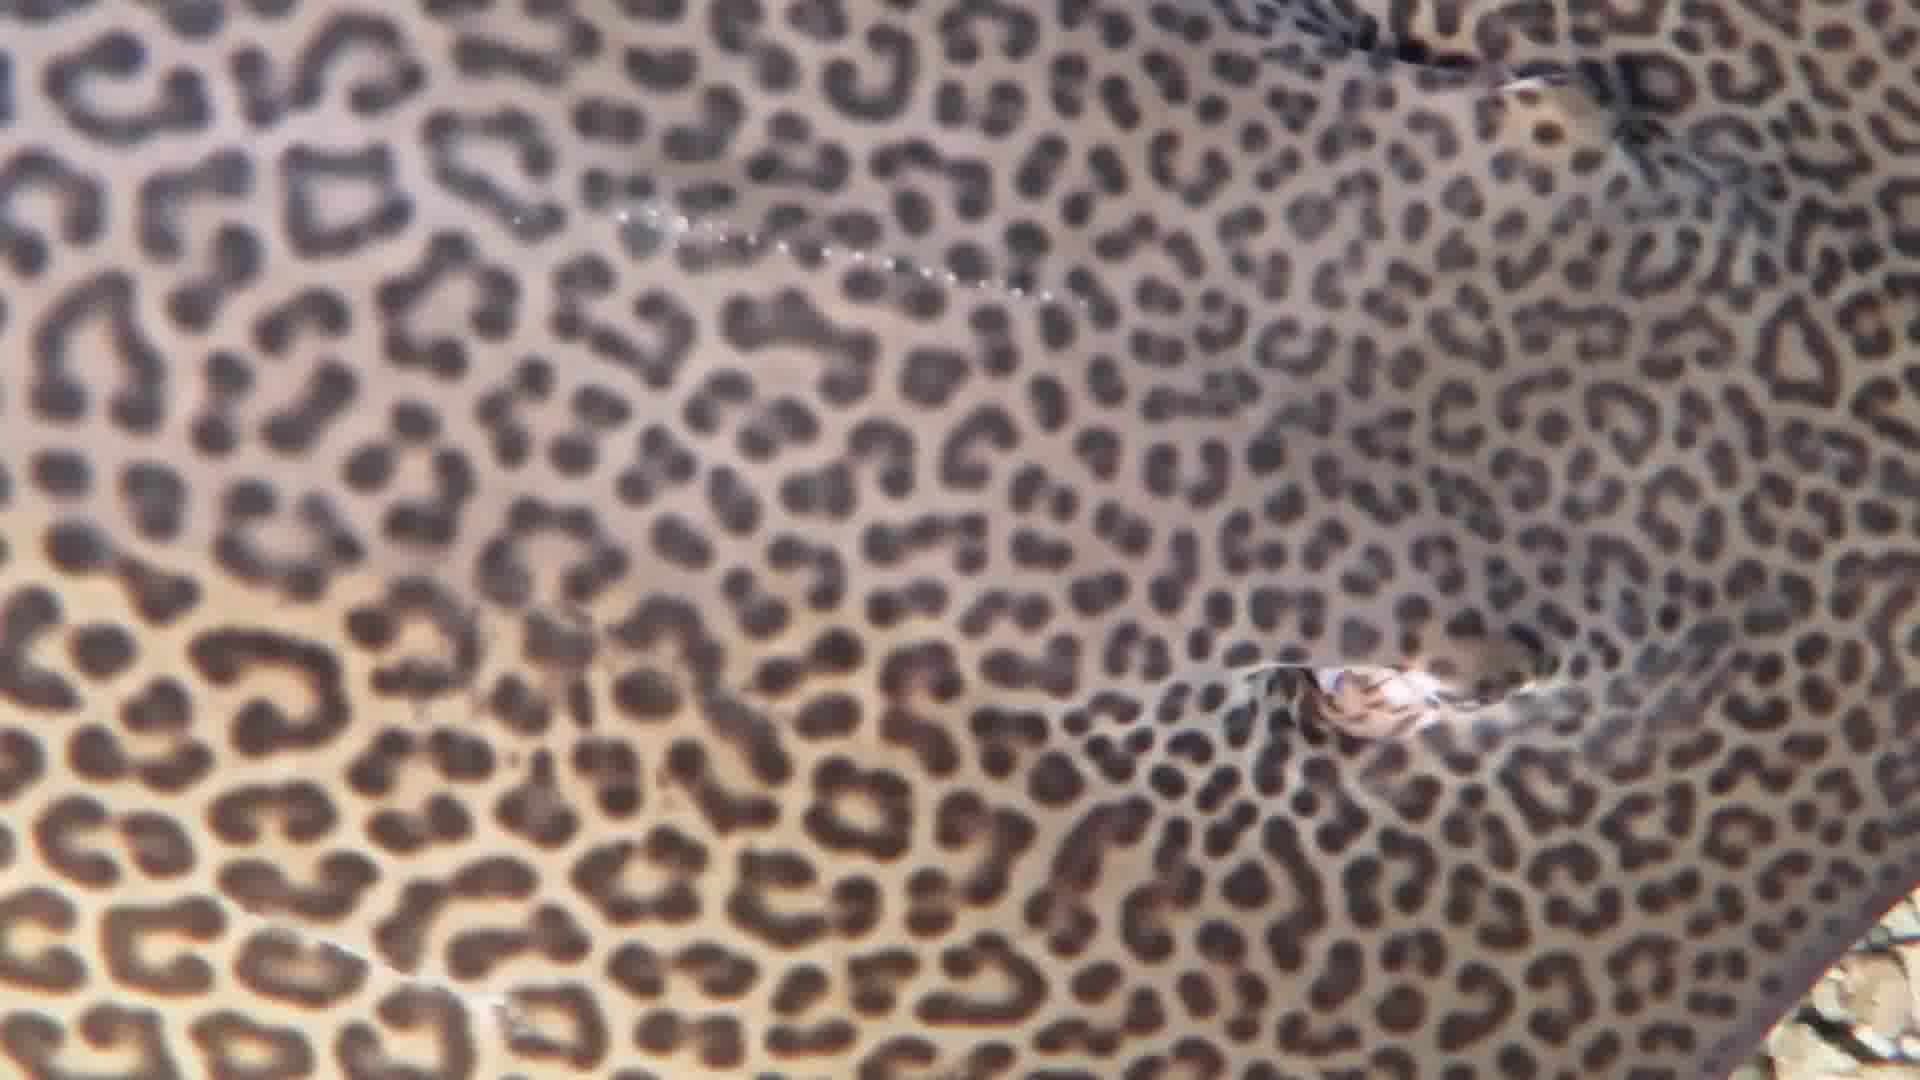Himantura uarnak: (1, 1, 1920, 1080)
